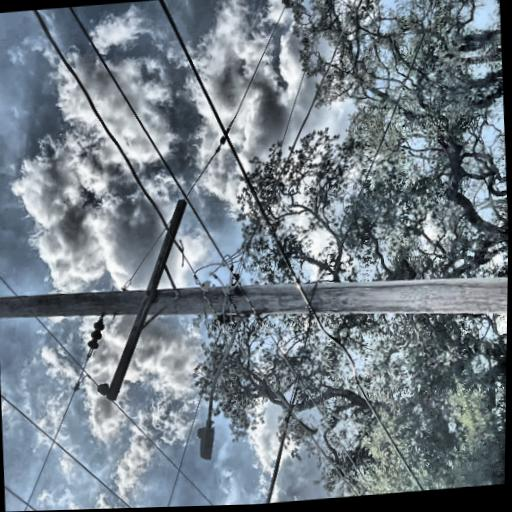pole: (0, 4, 122, 512)
street light: (0, 348, 70, 390)
